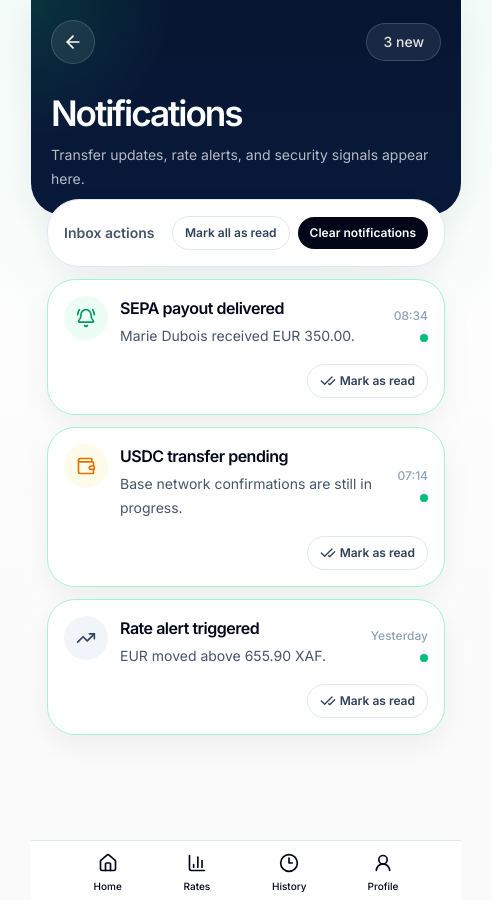
it: supporting app routes › renders notifications actions and supports mark read flows without falsely activating a bottom tab
This screenshot has width=492, height=900.
Check: the heading "Notifications" is shown, box [51, 92, 241, 134]
Check: the text "SEPA payout delivered" is shown, box [120, 298, 284, 318]
Click the button "Mark as read" below "Marie Dubois received EUR 350.00." at (367, 381), box [307, 364, 428, 398]
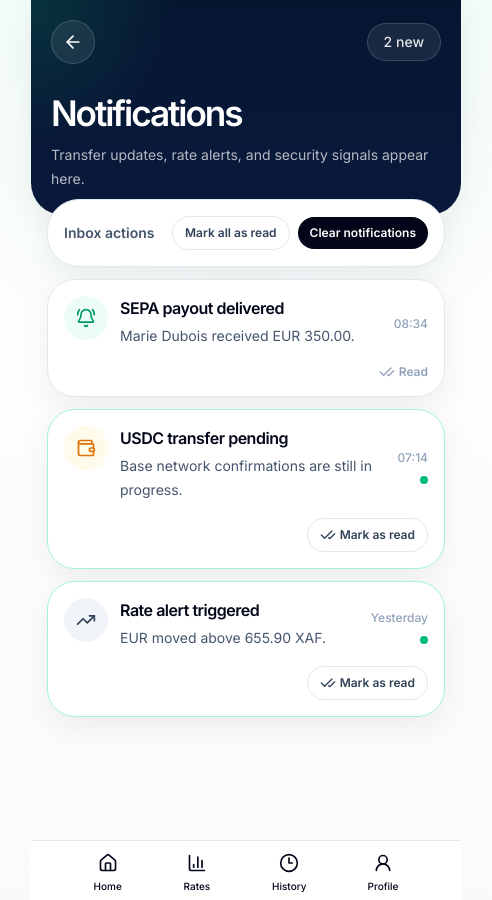
Check: the text "Read" is shown, box [379, 364, 428, 380]
Click the button "Mark all as read" at (231, 233), box [172, 216, 290, 250]
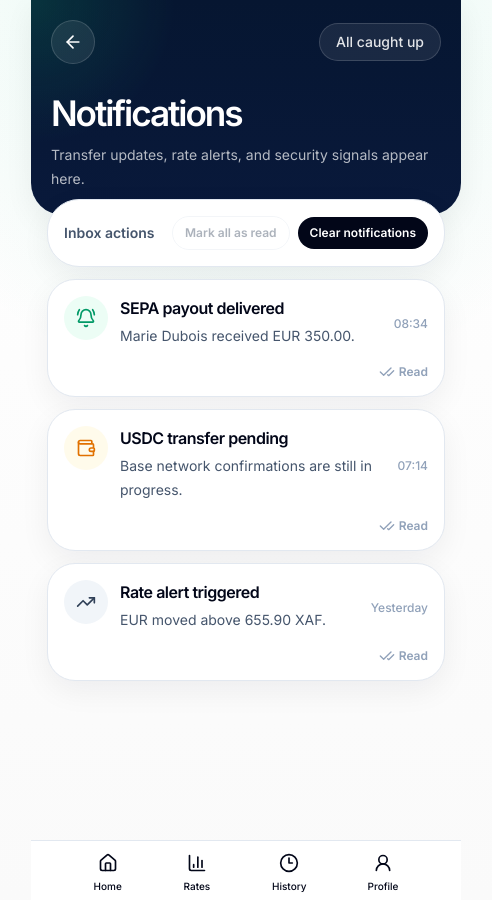
Check: the button "Mark as read" is gone
Click the button "Clear notifications" at (363, 233), box [298, 217, 428, 249]
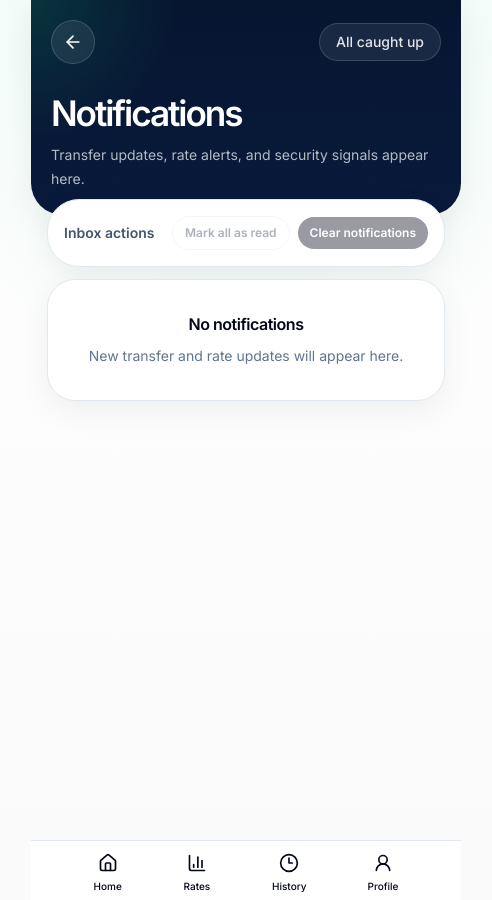
Check: the text "No notifications" is shown, box [188, 314, 303, 334]
